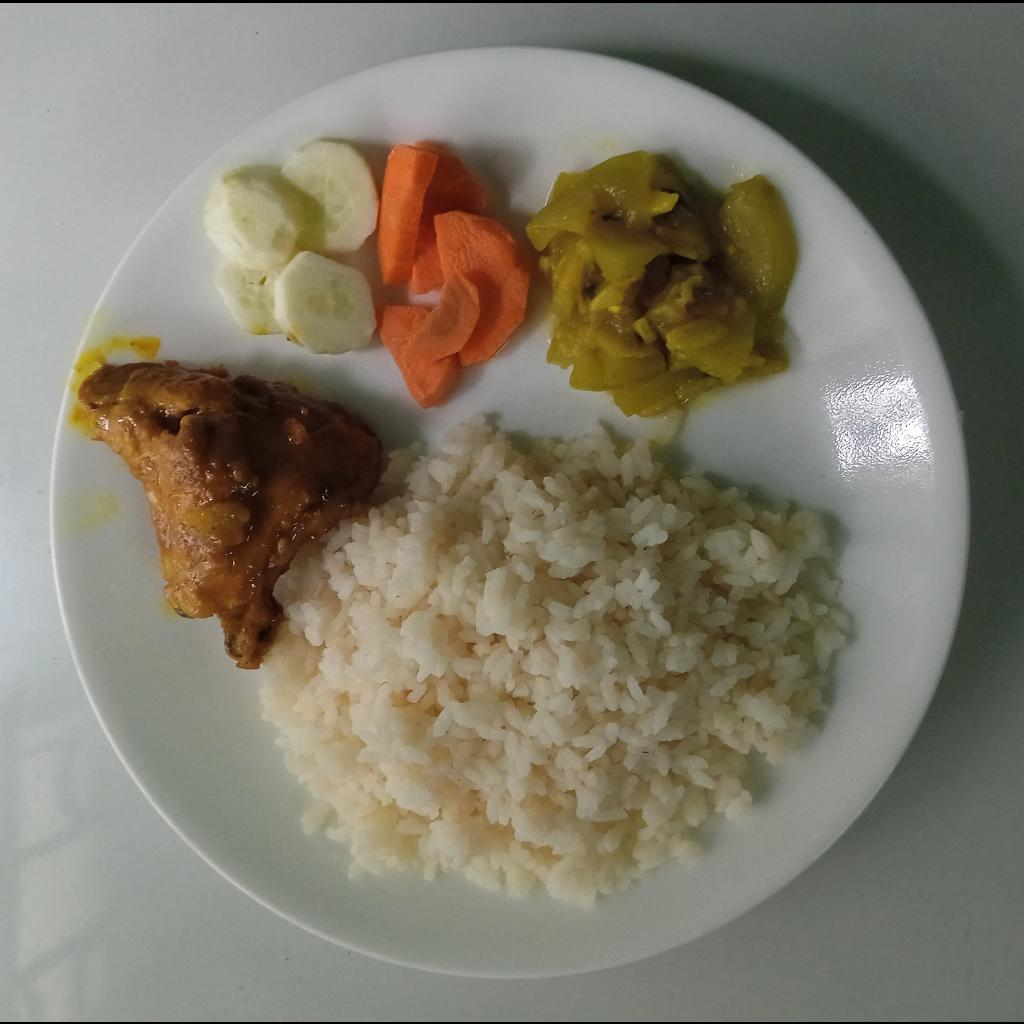carrot: (376, 137, 527, 411)
chicken: (80, 358, 386, 671)
cucumber: (201, 141, 378, 358)
lau: (522, 147, 797, 420)
rice: (258, 403, 851, 906)
